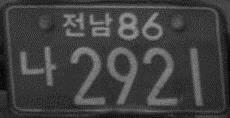1: (187, 46, 205, 106)
2: (69, 45, 106, 106), (142, 45, 178, 107)
6: (141, 11, 162, 41)
8: (117, 11, 140, 40)
9: (106, 45, 137, 105)
나: (18, 44, 56, 86)
전남_O: (62, 11, 112, 37)
